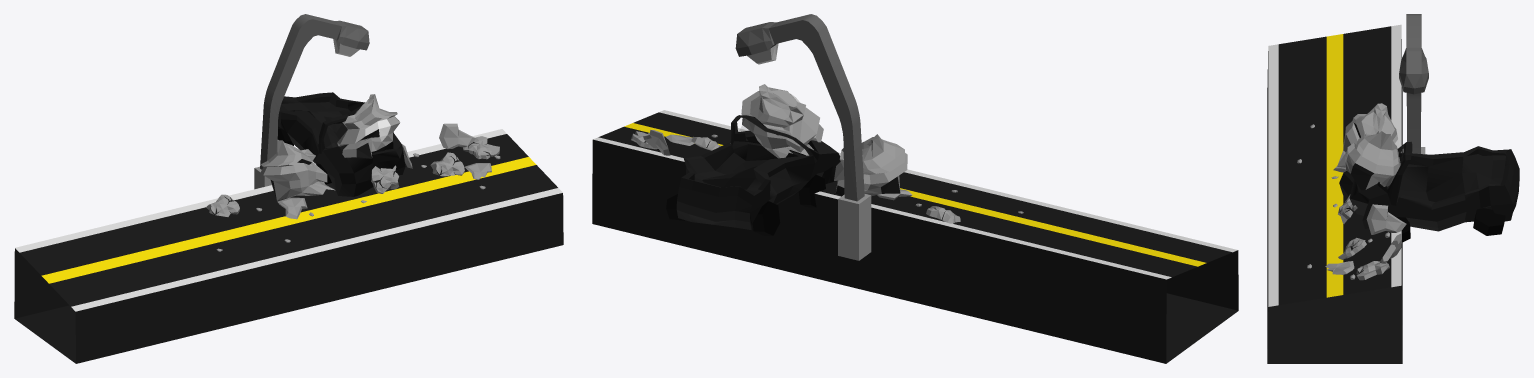
File: myhome@road.FBX
3 views of the same model, side by side, from view 1: azimuth 30°, elevation 25°; view 2: azimuth 150°, elevation 25°; view 3: azimuth 270°, elevation 25° (orthographic). The views are drawn at different scales.
Visible parts, largest first — view 1: Box003; view 2: Box003; view 3: Box003.
Part boxes in pixels (left/top/right/bottom): Box003: left=14, top=14, right=563, bottom=363; Box003: left=592, top=14, right=1238, bottom=363; Box003: left=1267, top=14, right=1519, bottom=363.
Bounding box in the file's own units: 155 × 68.28 × 63.2.
